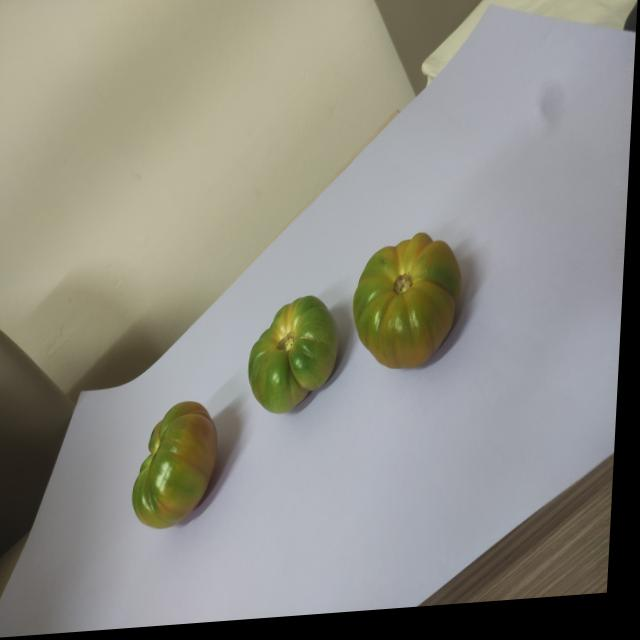yesil: (350, 213, 480, 390), (120, 394, 249, 545), (238, 290, 355, 431)
